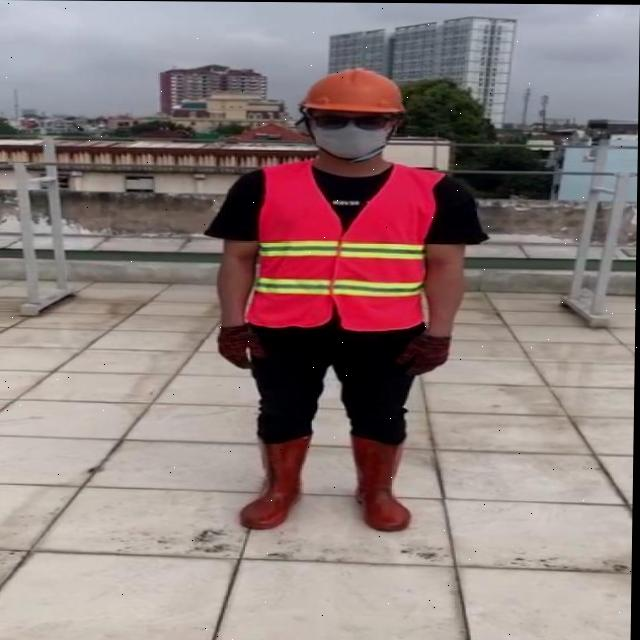Gloves: (397, 332, 453, 376), (218, 323, 270, 368)
Safety-Boot: (241, 430, 315, 529), (352, 429, 415, 530)
Safety-Vest: (246, 157, 450, 332)
